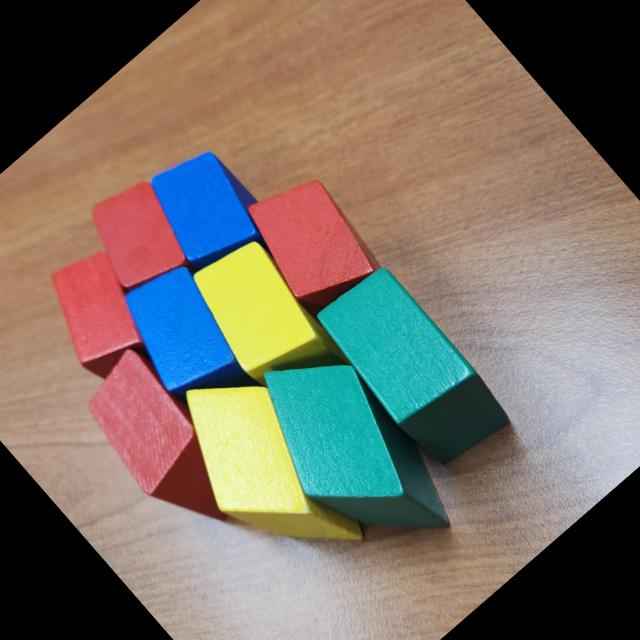blue: (100, 250, 282, 440), (129, 136, 287, 296)
green: (223, 323, 474, 585), (307, 258, 519, 482)
red: (67, 341, 265, 548), (230, 160, 392, 327), (22, 235, 173, 389), (70, 166, 208, 305)
yellow: (146, 348, 385, 597), (174, 226, 358, 417)
